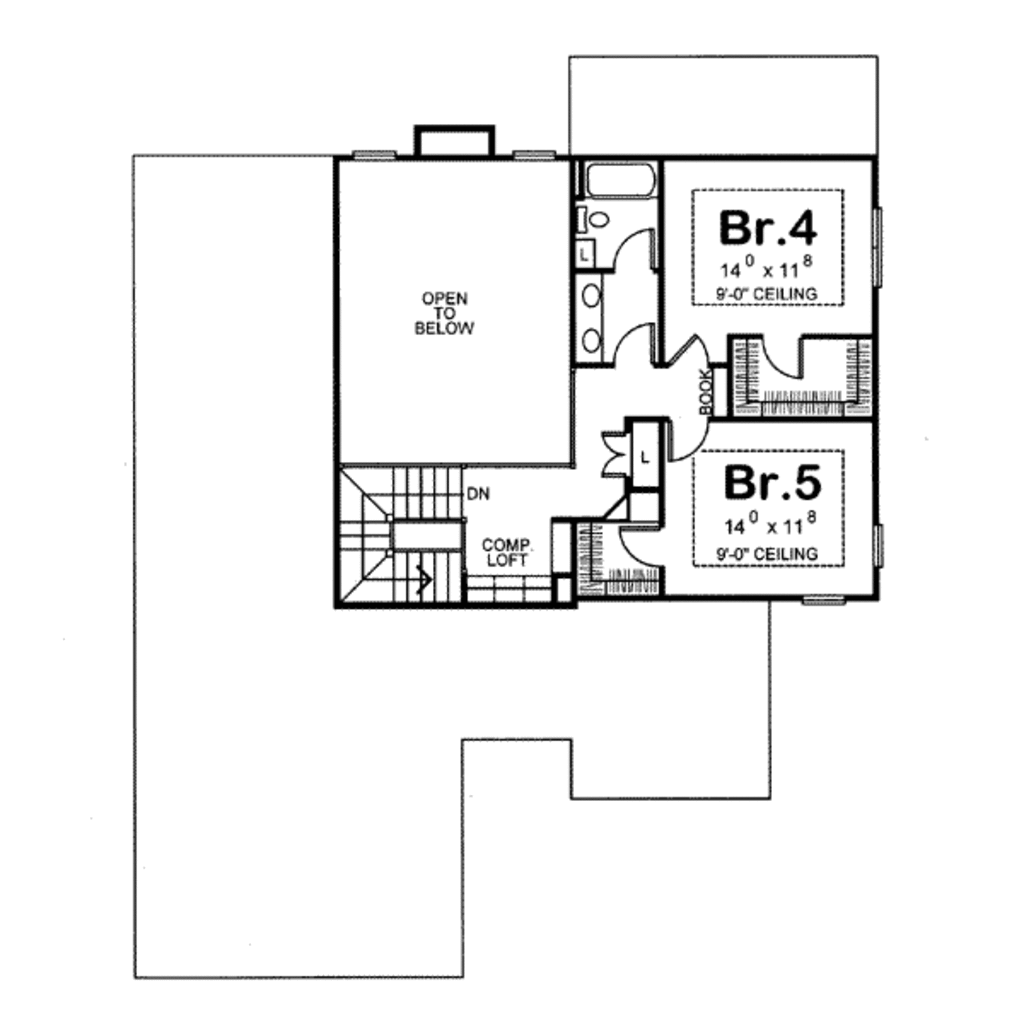door: (605, 314, 669, 369), (609, 222, 659, 282), (759, 338, 816, 382), (617, 525, 673, 567), (669, 330, 716, 375), (672, 416, 714, 466), (597, 428, 633, 482)
large_sink: (573, 203, 623, 232)
small_sink: (572, 272, 606, 361)
stairs: (334, 461, 484, 597)
tub: (572, 149, 658, 200)
window: (866, 205, 884, 299), (514, 146, 561, 163), (806, 591, 850, 607), (872, 521, 884, 574), (356, 147, 400, 158)
